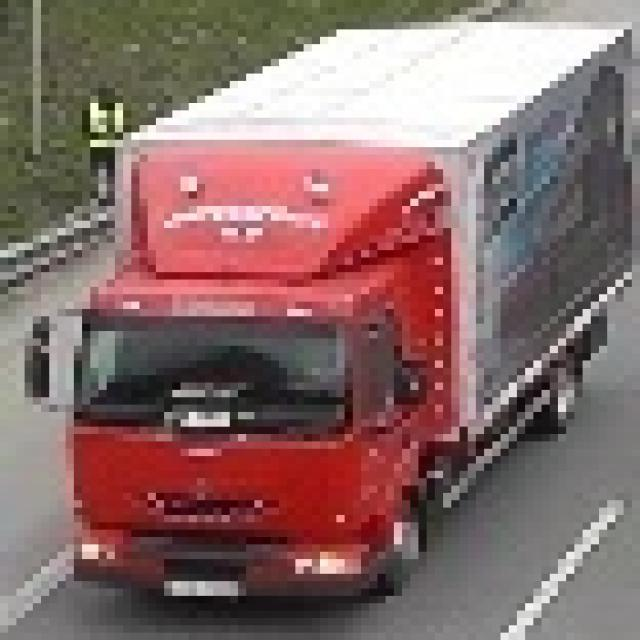truck: (33, 15, 640, 596)
